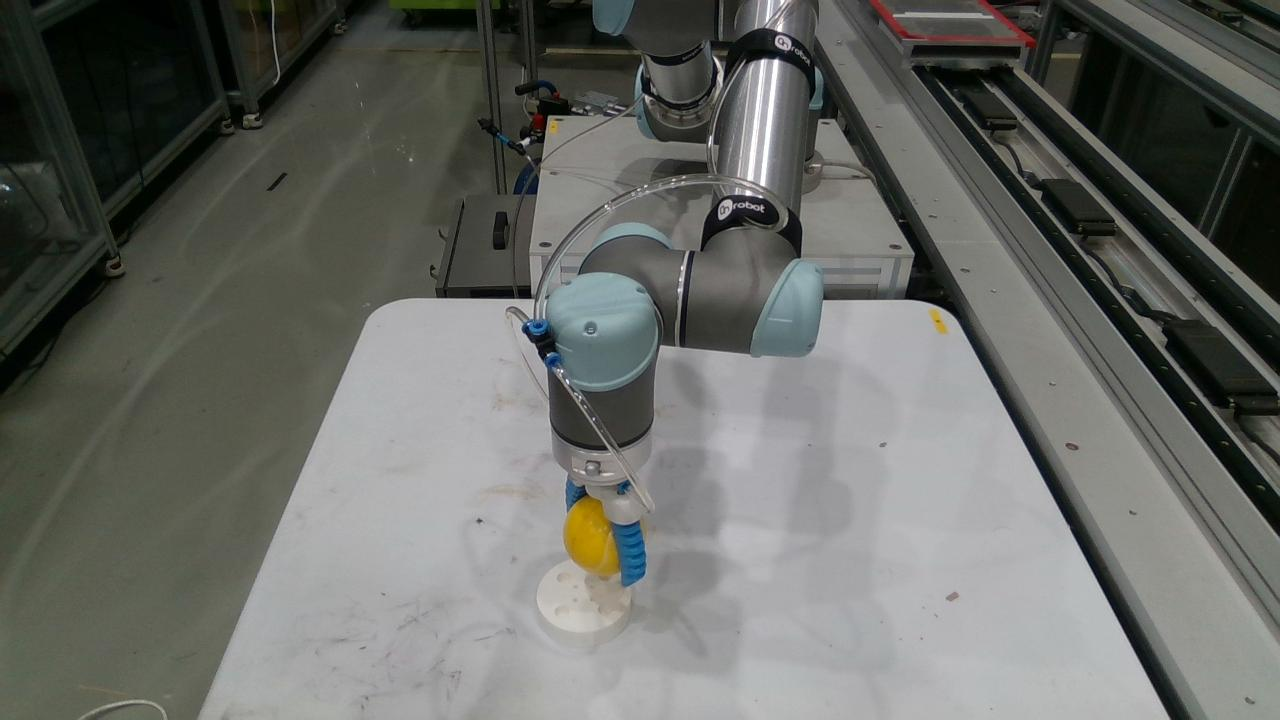UR5: (546, 0, 824, 526)
gripper_left: (565, 477, 586, 513)
gripper_right: (611, 520, 646, 586)
target: (536, 560, 631, 648), (563, 495, 619, 577)
